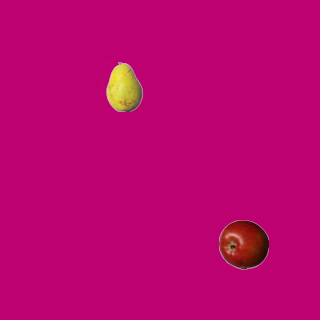Apple Braeburn: (218, 219, 268, 269)
Pear Monster: (99, 61, 149, 111)
